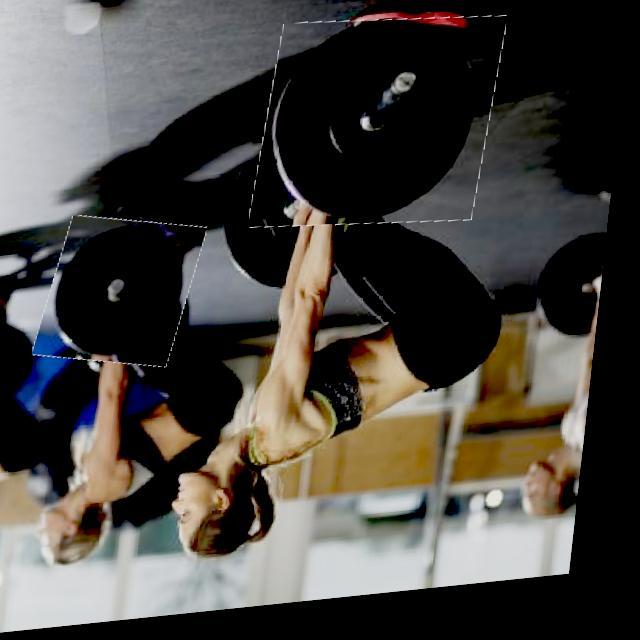barbell: (257, 16, 508, 246), (46, 214, 210, 377)
